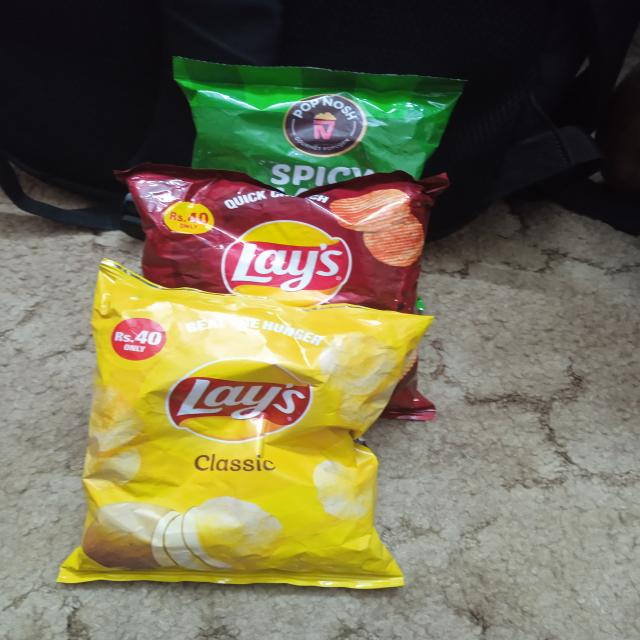Plastic: (90, 294, 408, 594), (120, 176, 440, 307), (172, 54, 464, 179)
